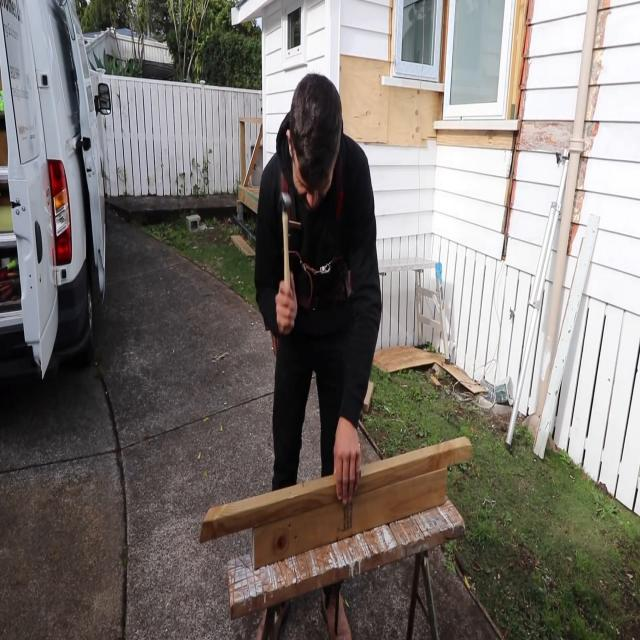hammer: (276, 191, 291, 290)
